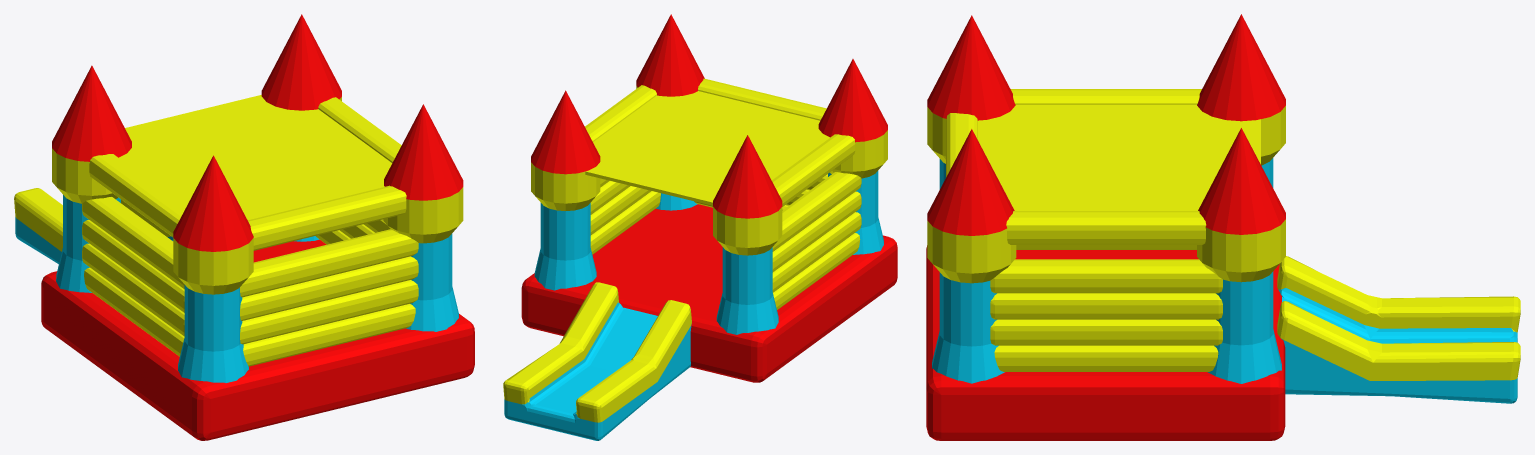
File: 0oKmmPJ_cD8.glb
3 renders of one model, left to right at view 1: azimuth 30°, elevation 25°; view 2: azimuth 150°, elevation 25°; view 3: azimuth 270°, elevation 25°, orthographic. The views are drawn at different scales.
Visible parts, largest first — view 1: Cylinder005; view 2: Cylinder005; view 3: Cylinder005.
Part boxes in pixels (x1,y1,x2,y2): Cylinder005: (14, 14, 474, 440); Cylinder005: (503, 14, 897, 440); Cylinder005: (926, 14, 1520, 440).
Bounding box in the file's own units: 1.06 × 1 × 1.76.
